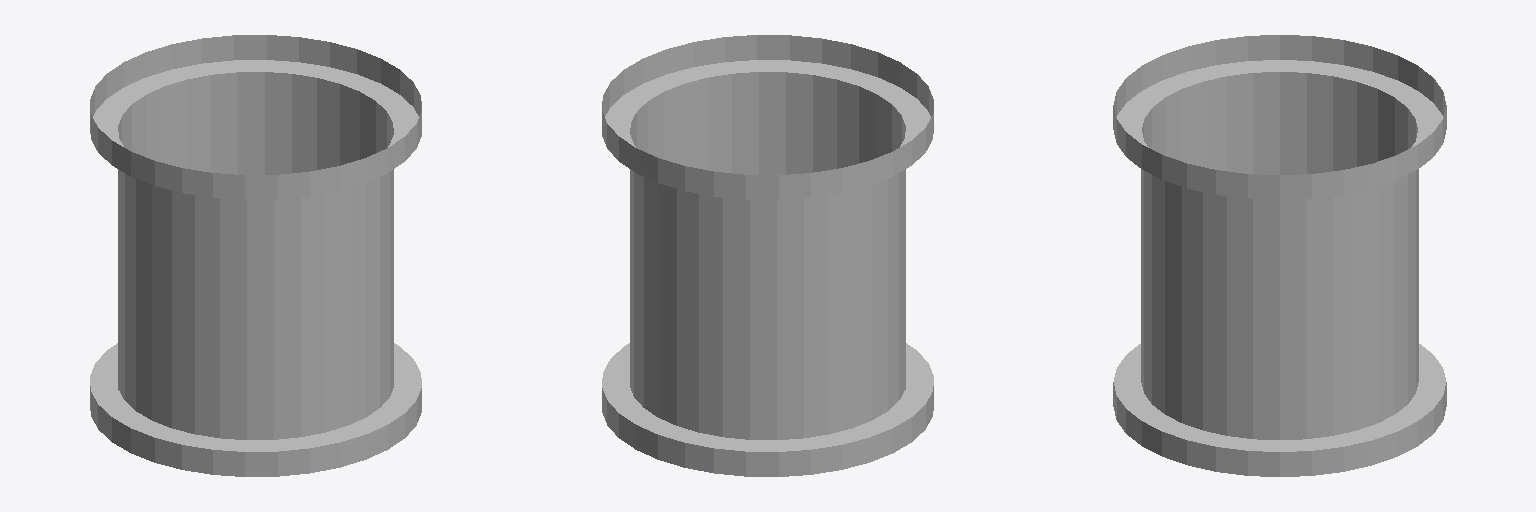
The model's file is CityWallTowerWall.obj.
3 views of the same model, side by side, from view 1: azimuth 30°, elevation 25°; view 2: azimuth 150°, elevation 25°; view 3: azimuth 270°, elevation 25° (orthographic).
Visible parts, largest first — view 1: Circle; view 2: Circle; view 3: Circle.
Part boxes in pixels (bbox=[...]): Circle: bbox=[90, 35, 421, 476]; Circle: bbox=[602, 35, 933, 476]; Circle: bbox=[1113, 35, 1446, 476].
Size of the model in its own units: 12 by 12 by 12.